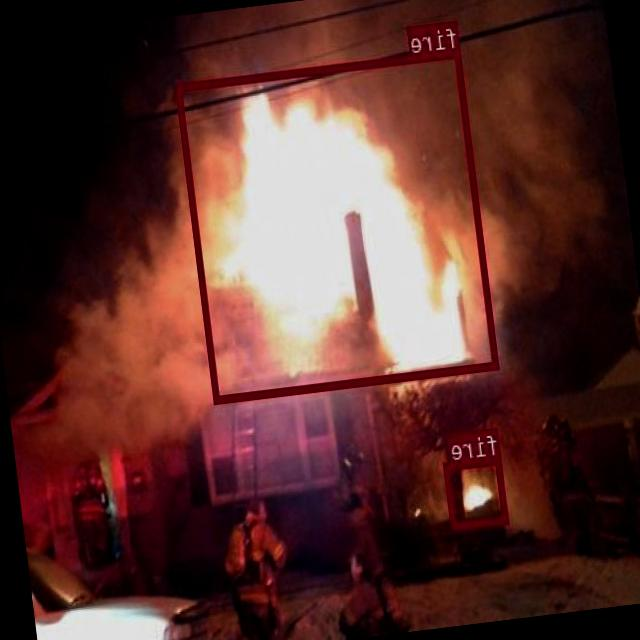fire: (176, 48, 500, 402), (444, 454, 511, 529)
